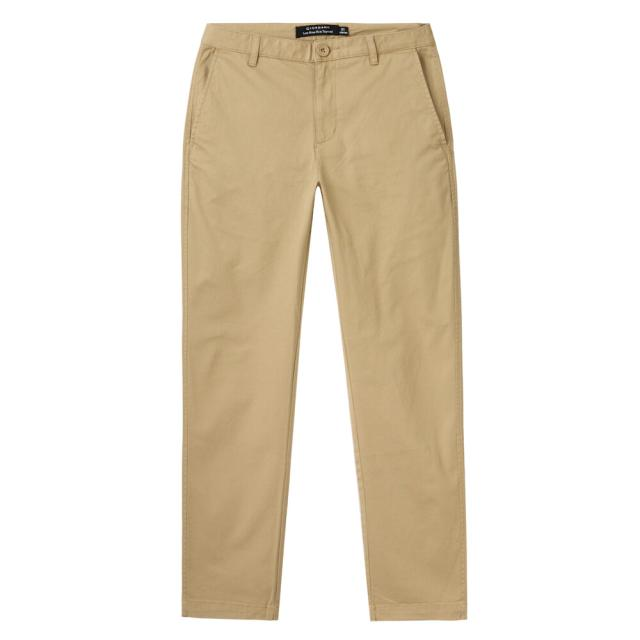long-pants: (180, 22, 470, 625)
